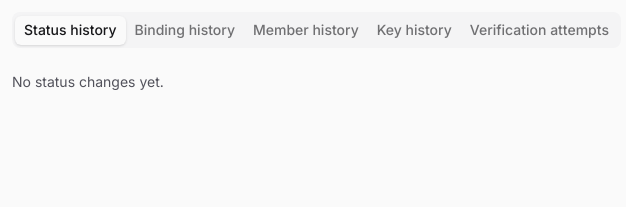
Scenario: LicenceHistory (extra) › loads member-add and member-remove events when the Member tab is clicked
This screenshot has width=626, height=207.
Step 1. Click the tab "Member history" → (306, 30), box [244,16,368,44]
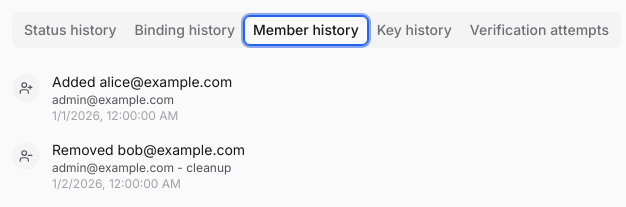
Expected: the text "Added alice@example.com" is shown, [52,73,232,90]
Expected: the text "Removed bob@example.com" is shown, [52,141,245,158]
